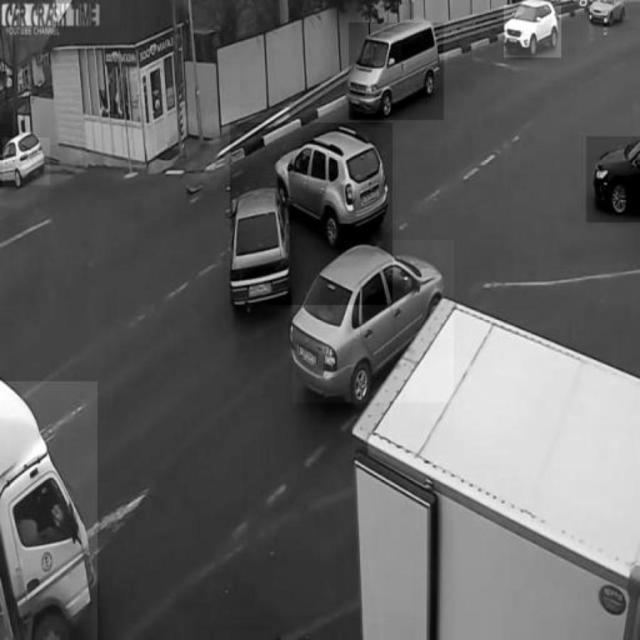accident: (231, 123, 393, 305)
vehicle: (293, 241, 453, 403), (0, 382, 98, 640), (350, 22, 444, 120), (586, 136, 640, 222), (504, 5, 561, 59), (3, 138, 50, 185)
